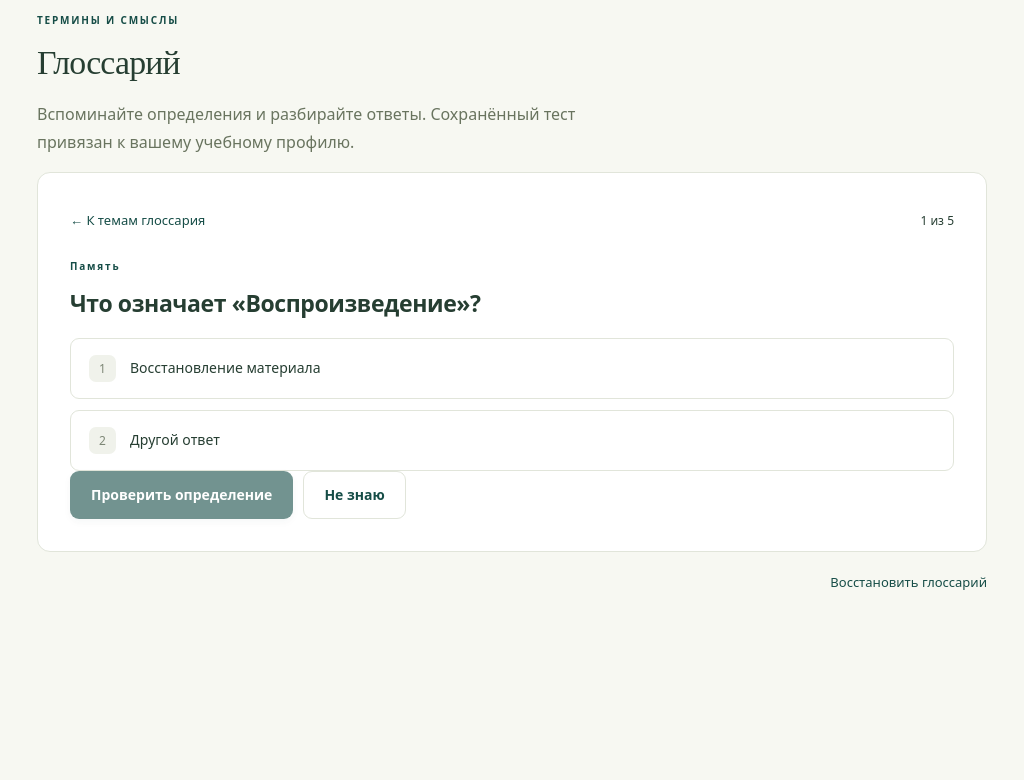
Scenario: submits an explicit knowledge gap and shows the saved definition
The image size is (1024, 780).
Step 1. Click the button "Не знаю" → coordinates (355, 495), box [303,471,406,519]
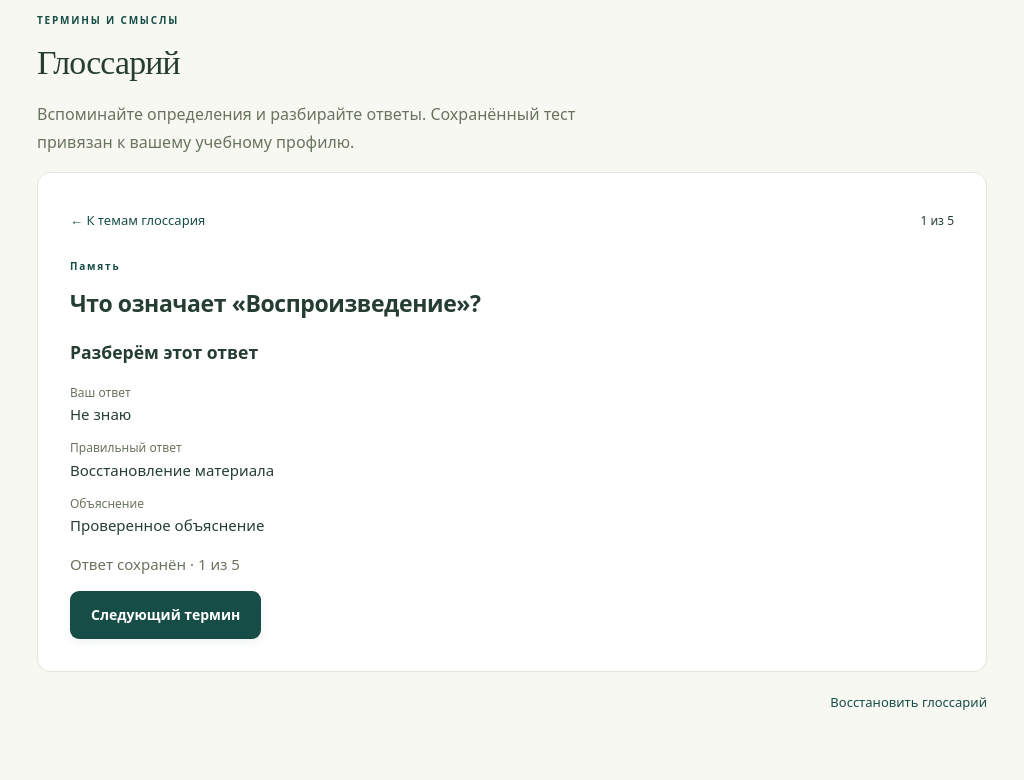
Expected: the text "Восстановление материала" is shown, [70,460,274,480]
Expected: the text "Проверенное объяснение" is shown, [70,515,264,535]
Expected: the text "Ответ сохранён · 1 из 5" is shown, [70,554,240,574]
